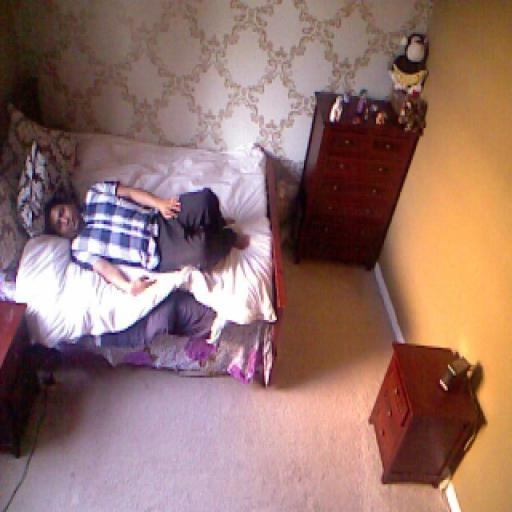Fall: (42, 179, 248, 299)
